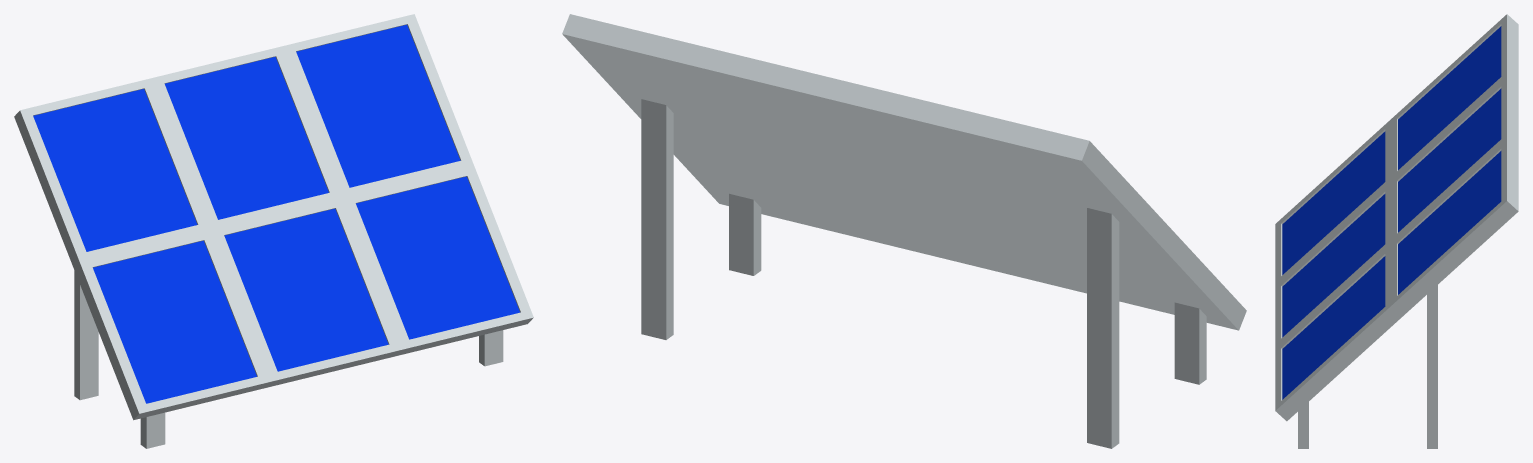
Rendered from SolarPanel01.fbx.
3 renders of one model, left to right at view 1: azimuth 30°, elevation 25°; view 2: azimuth 150°, elevation 25°; view 3: azimuth 270°, elevation 25°, orthographic. The views are drawn at different scales.
Parts seen in each view (by area): view 1: Solar Panel; view 2: Solar Panel; view 3: Solar Panel.
Part boxes in pixels (x1,y1,x2,y2): Solar Panel: (14,14,533,448); Solar Panel: (562,14,1246,448); Solar Panel: (1275,14,1518,448).
Bounding box in the file's own units: 163 × 105 × 89.84.
